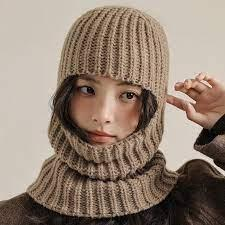scarf-kerchief: (21, 3, 183, 219)
